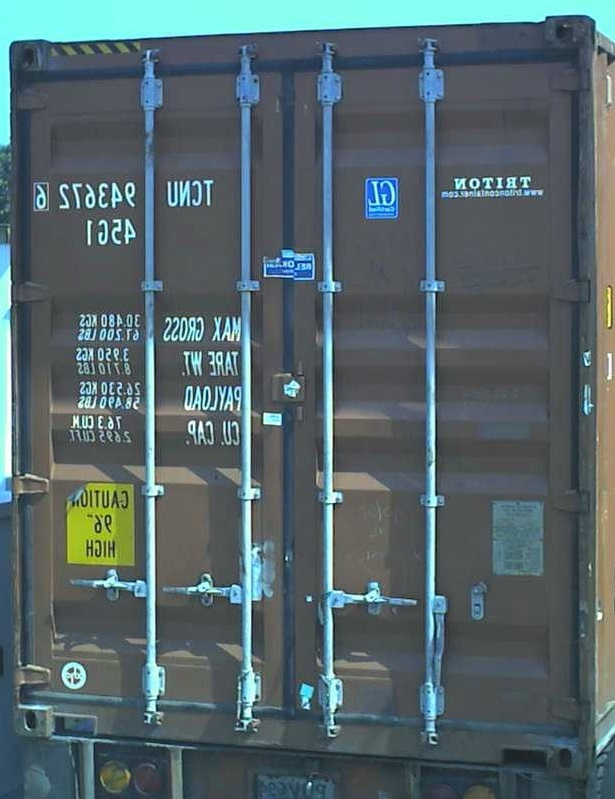container_door: (11, 13, 592, 756)
